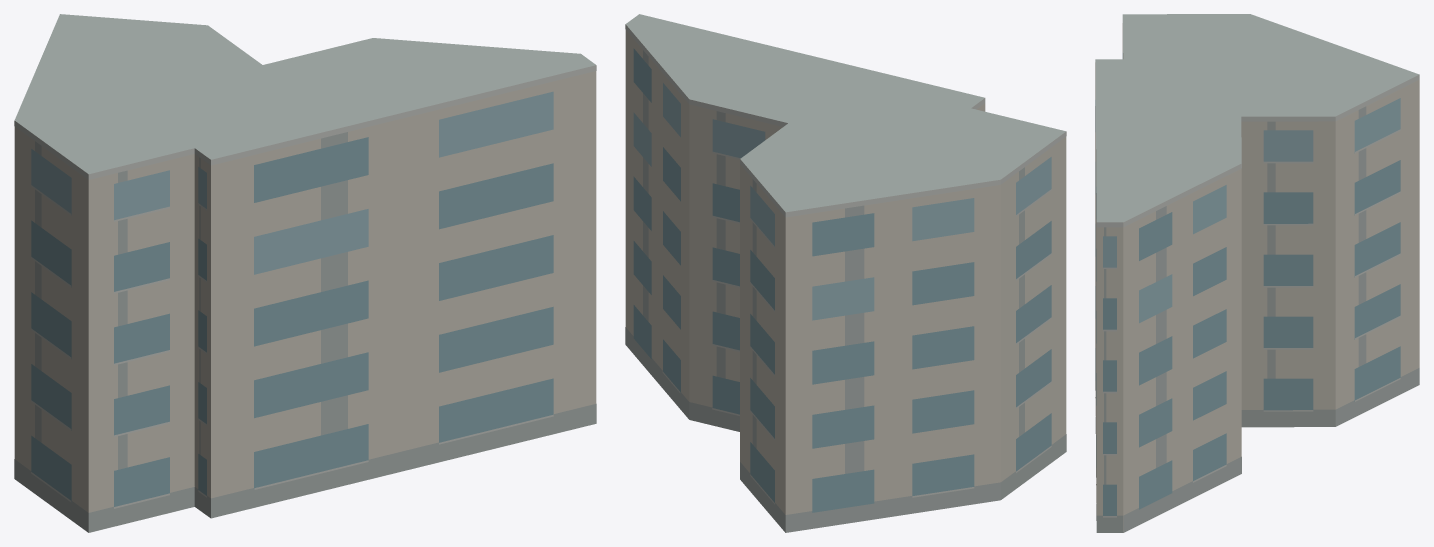
Rendered from residential-51422145-4f34-4989-8ab7-ff5224fb7965.glb.
3 views of the same model, side by side, from view 1: azimuth 30°, elevation 25°; view 2: azimuth 150°, elevation 25°; view 3: azimuth 270°, elevation 25° (orthographic). The views are drawn at different scales.
Visible parts, largest first — view 1: residential-51422145-4f34-4989-8ab7-ff5224fb7965.tmp; view 2: residential-51422145-4f34-4989-8ab7-ff5224fb7965.tmp; view 3: residential-51422145-4f34-4989-8ab7-ff5224fb7965.tmp.
Boxes of the visible parts, <box> form: residential-51422145-4f34-4989-8ab7-ff5224fb7965.tmp: <box>14,14,596,532</box>; residential-51422145-4f34-4989-8ab7-ff5224fb7965.tmp: <box>625,14,1066,532</box>; residential-51422145-4f34-4989-8ab7-ff5224fb7965.tmp: <box>1095,14,1419,532</box>.
Bounding box in the file's own units: 21.97 × 15.25 × 14.44.
